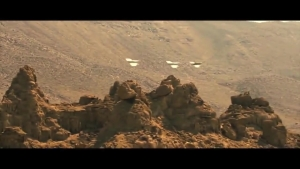flight: (124, 56, 141, 67), (165, 60, 181, 69), (189, 60, 203, 68)
